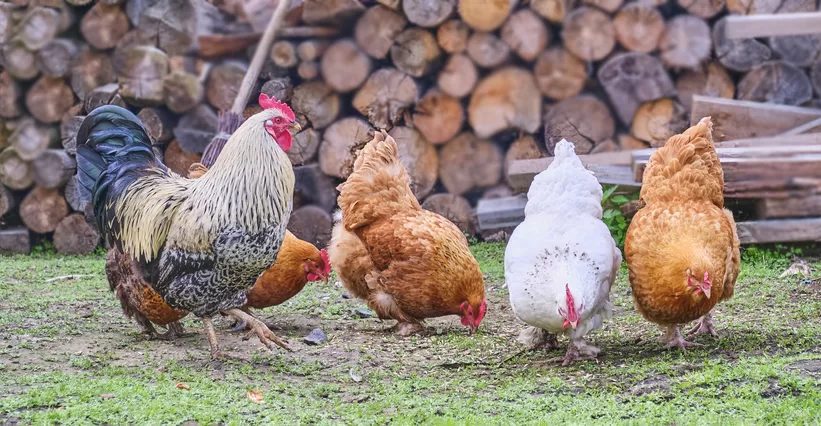Healthy: (73, 88, 307, 372), (318, 125, 492, 343), (621, 117, 748, 360), (498, 136, 623, 371)
